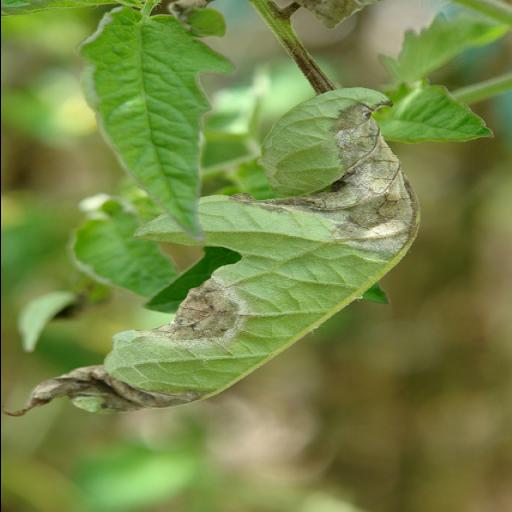disease_tomato: (10, 85, 428, 418)
